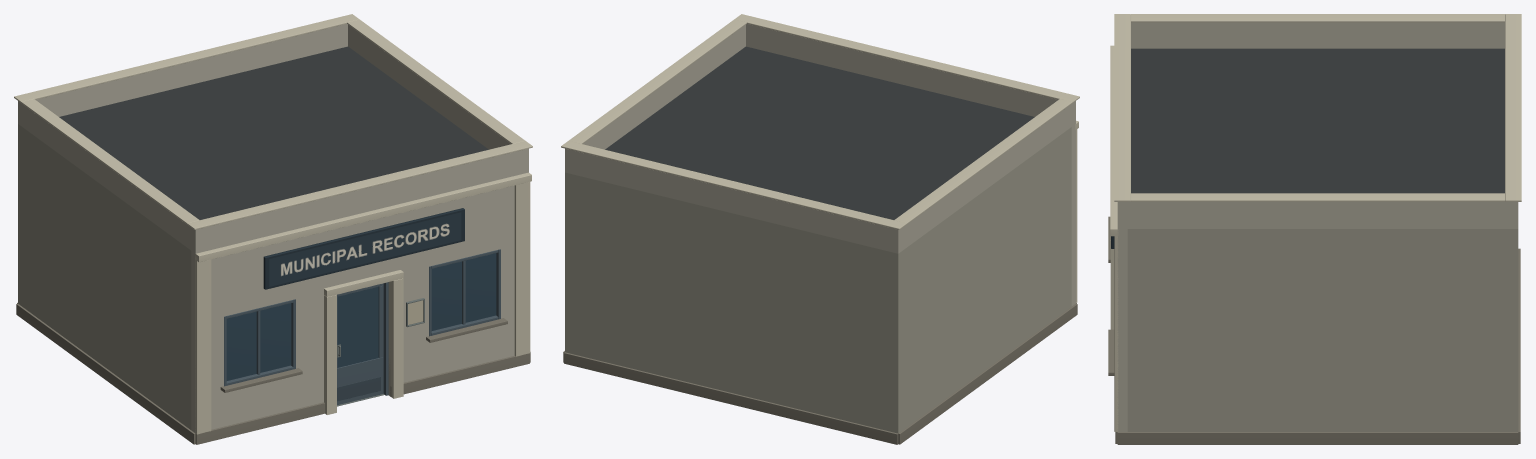
File: Municipal_Records_Exterior.fbx
3 views of the same model, side by side, from view 1: azimuth 30°, elevation 25°; view 2: azimuth 150°, elevation 25°; view 3: azimuth 270°, elevation 25° (orthographic). The views are drawn at different scales.
Visible parts, largest first — view 1: Roof, Building_Shell_Left, Building_Shell_Front, Parapet, Architectural_Trim, Parapet_Coping, Window_Left, Window_Right, Municipal_Records_Sign_Print, Foundation_Trim, Entrance_Door, Municipal_Records_Sign_Board (+2 smaller); view 2: Building_Shell_Rear, Roof, Building_Shell_Left, Parapet, Parapet_Coping, Foundation_Trim, Building_Shell_Front; view 3: Building_Shell_Right, Roof, Parapet, Parapet_Coping, Foundation_Trim, Architectural_Trim, Building_Shell_Rear, Building_Shell_Front.
Boxes of the visible parts, bbox=[...] form: Roof: bbox=[59, 46, 488, 219]; Building_Shell_Left: bbox=[22, 127, 191, 429]; Building_Shell_Front: bbox=[191, 185, 514, 433]; Parapet: bbox=[18, 24, 528, 253]; Architectural_Trim: bbox=[195, 172, 531, 434]; Parapet_Coping: bbox=[14, 14, 532, 229]; Window_Left: bbox=[220, 299, 302, 392]; Window_Right: bbox=[426, 249, 507, 342]; Municipal_Records_Sign_Print: bbox=[269, 212, 461, 286]; Foundation_Trim: bbox=[16, 302, 530, 444]; Entrance_Door: bbox=[337, 283, 383, 405]; Municipal_Records_Sign_Board: bbox=[263, 208, 464, 289]; Building_Shell_Rear: bbox=[565, 172, 902, 433]; Roof: bbox=[605, 46, 1034, 219]; Building_Shell_Left: bbox=[902, 127, 1071, 429]; Parapet: bbox=[565, 24, 1075, 253]; Parapet_Coping: bbox=[561, 14, 1079, 229]; Foundation_Trim: bbox=[563, 303, 1077, 444]; Building_Shell_Front: bbox=[1071, 124, 1075, 306]; Building_Shell_Right: bbox=[1127, 229, 1508, 431]; Roof: bbox=[1131, 48, 1504, 193]; Parapet: bbox=[1117, 22, 1518, 228]; Parapet_Coping: bbox=[1114, 14, 1521, 201]; Foundation_Trim: bbox=[1115, 248, 1520, 444]; Architectural_Trim: bbox=[1110, 45, 1118, 431]; Building_Shell_Rear: bbox=[1508, 229, 1518, 431]; Building_Shell_Front: bbox=[1117, 229, 1127, 431].
Size of the model in its own units: 6.6 by 4.05 by 6.19.
12 materials, 1 textured.
